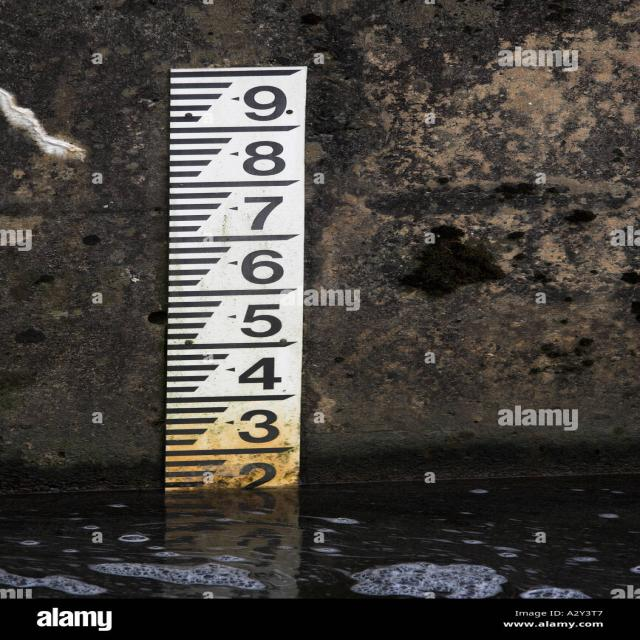ruler: (150, 59, 342, 496)
value: (232, 401, 302, 447), (231, 79, 296, 128), (234, 243, 296, 292), (236, 134, 296, 182), (232, 296, 292, 344), (228, 349, 290, 394), (238, 190, 292, 237)
